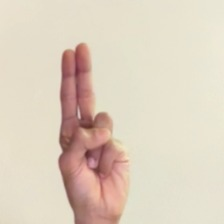U: (37, 32, 147, 224)
